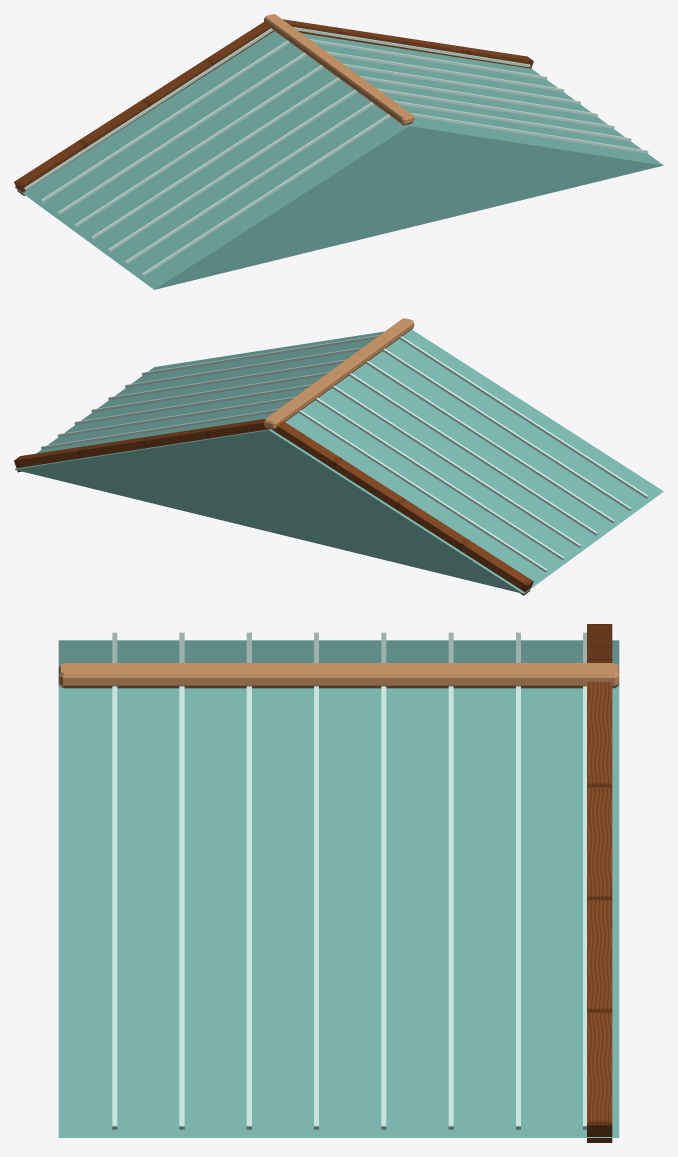
File: ocean-raft-settlement-ocean-raft-settlement-cabin-roof-071d2840__28908.glb
3 renders of one model, top to bottom at view 1: azimuth 30°, elevation 25°; view 2: azimuth 150°, elevation 25°; view 3: azimuth 270°, elevation 25°, orthographic. The views are drawn at different scales.
Visible parts, largest first — view 1: teal, foam, wood, copper; view 2: teal, foam, wood, copper; view 3: teal, foam, copper, wood.
Part boxes in pixels (left/top/right/bottom): teal: left=14, top=31, right=663, bottom=289; foam: left=24, top=27, right=648, bottom=276; wood: left=14, top=19, right=533, bottom=195; copper: left=264, top=14, right=414, bottom=125; teal: left=14, top=329, right=663, bottom=593; foam: left=41, top=335, right=648, bottom=572; wood: left=14, top=418, right=533, bottom=595; copper: left=264, top=318, right=414, bottom=429; teal: left=58, top=640, right=619, bottom=1137; foam: left=112, top=632, right=586, bottom=1129; copper: left=58, top=663, right=619, bottom=688; wood: left=587, top=624, right=612, bottom=1142.
Bounding box in the file's own units: 4.23 × 0.8972 × 2.
4 materials, 1 textured.
